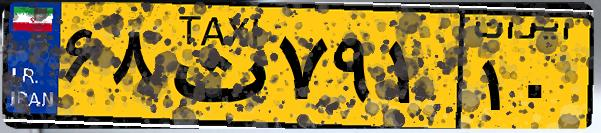0: (525, 38, 570, 115)
1: (385, 28, 445, 110), (475, 38, 525, 113)
6: (57, 26, 110, 100)
7: (270, 28, 330, 110)
8: (110, 28, 158, 98)
9: (330, 28, 385, 110)
ت: (158, 12, 270, 120)
